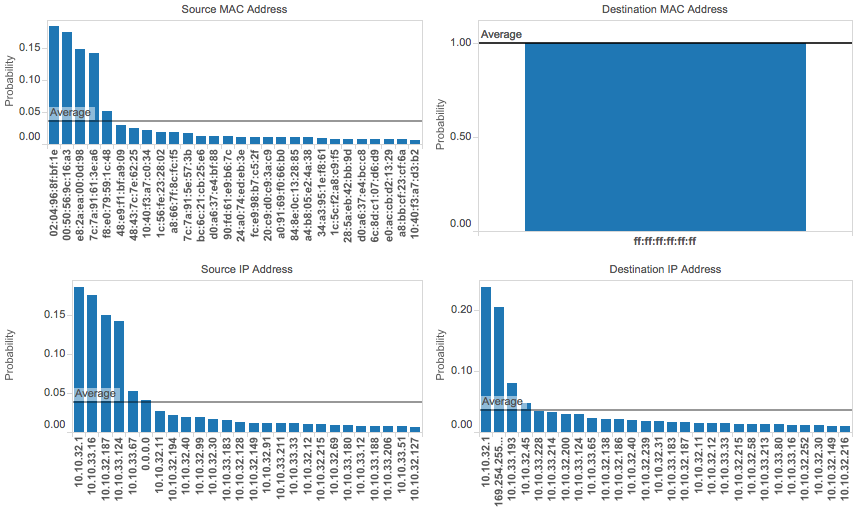

What the dashboard file says about the page in this screenshot:
{"tool":"tableau","page":{"name":"PDFs Dashboard","canvas":[1000,1000],"units":"permille","ordinal":1},"visuals":[{"type":"worksheet","title":"Source MAC PDF","mark":"Automatic","rows":["Calculation_558446359774420994"],"cols":["hwsrc"],"box":[0,0,500,500]},{"type":"worksheet","title":"Destination MAC PDF","mark":"Automatic","rows":["Calculation_558446359774584835"],"cols":["hwdst"],"box":[500,0,500,500]},{"type":"worksheet","title":"Source IP PDF","mark":"Automatic","rows":["Calculation_558446359785705483"],"cols":["ipsrc"],"box":[0,500,500,500]},{"type":"worksheet","title":"Destination IP PDF","mark":"Automatic","rows":["Calculation_558446359774961669"],"cols":["ipdst"],"box":[500,500,500,500]}]}

Visuals, with their boxes on the dashboard's canvas, which has no fixed pixel size, in thousandths of its width and height (x1, y1, x2, y2). These are canvas units, not pixel positions in the 853x511 screenshot, which may show the page scaled, cropped or inside an application window:
"Source MAC PDF" worksheet: 0 0 500 500
"Destination MAC PDF" worksheet: 500 0 1000 500
"Source IP PDF" worksheet: 0 500 500 1000
"Destination IP PDF" worksheet: 500 500 1000 1000
